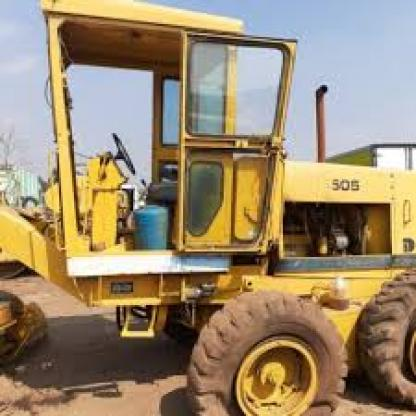bull_dozer/loader/grader: (15, 0, 414, 409)
